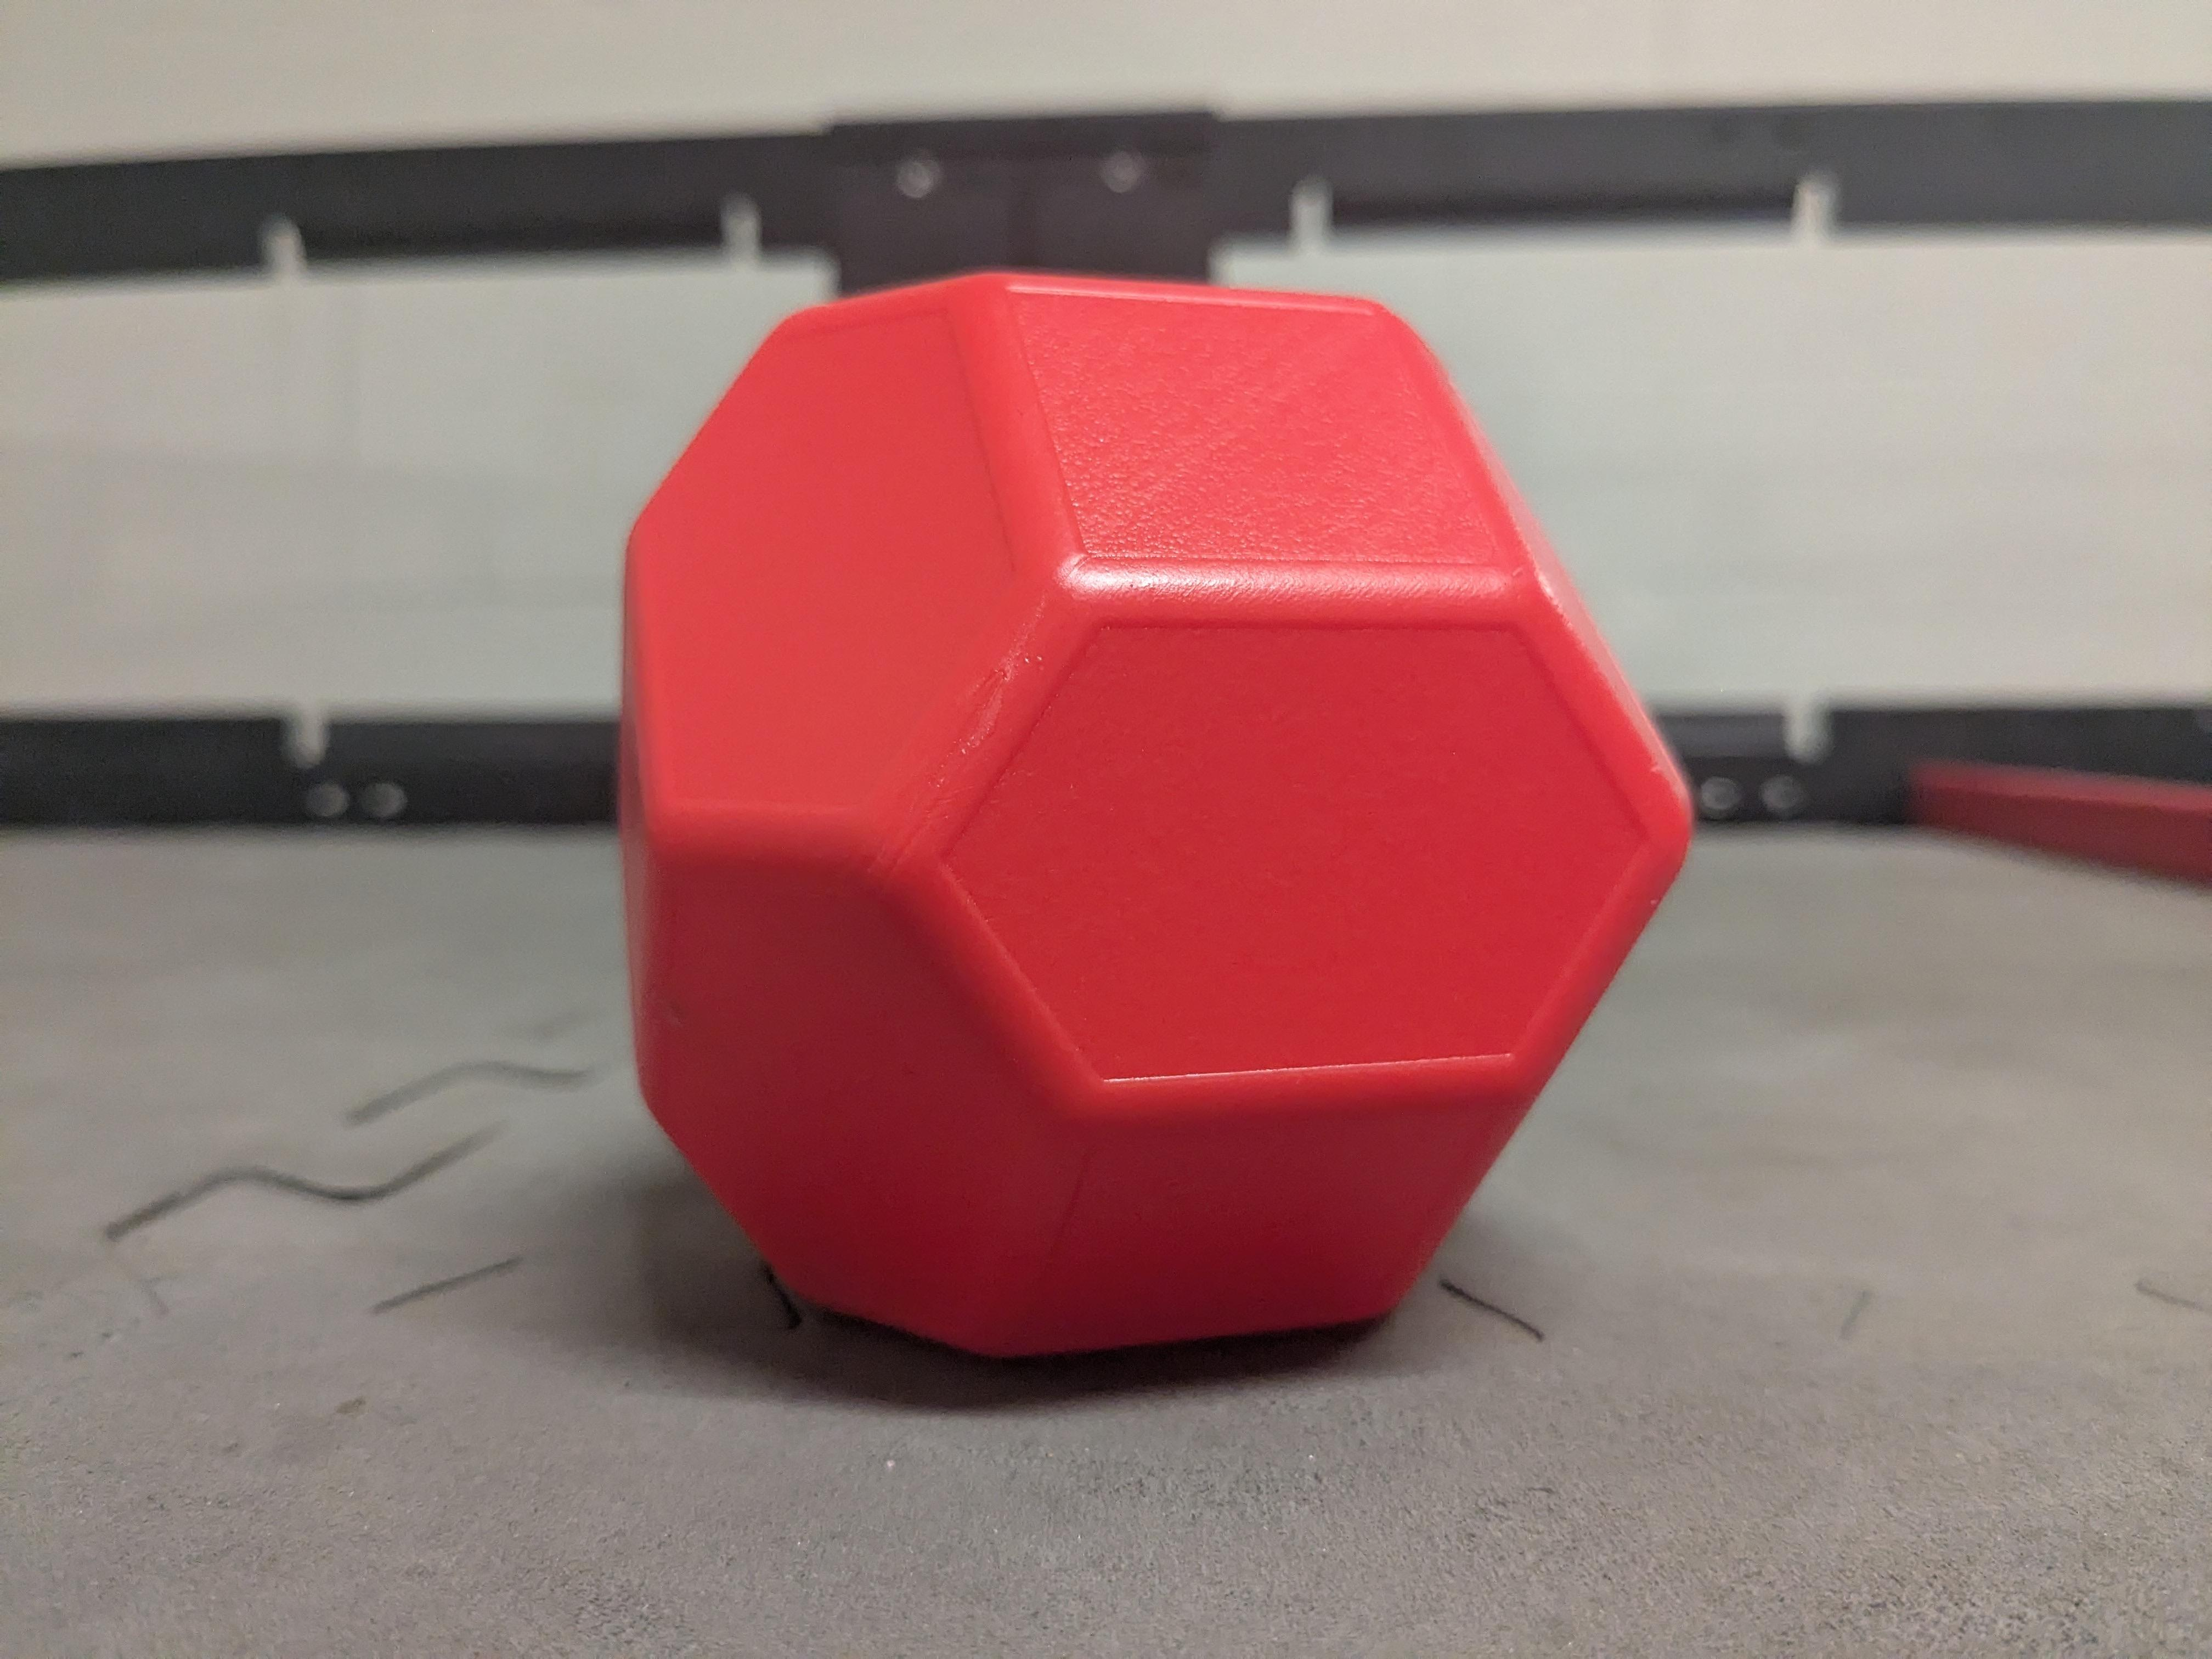Vex-Pieces-RED: (620, 272, 1691, 1354)
